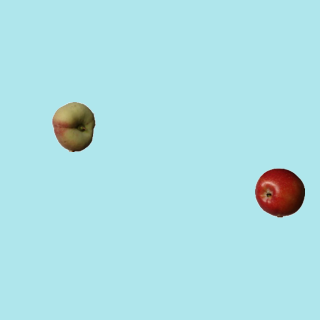Apple Braeburn: (254, 167, 304, 217)
Peach Flat: (48, 101, 98, 151)
